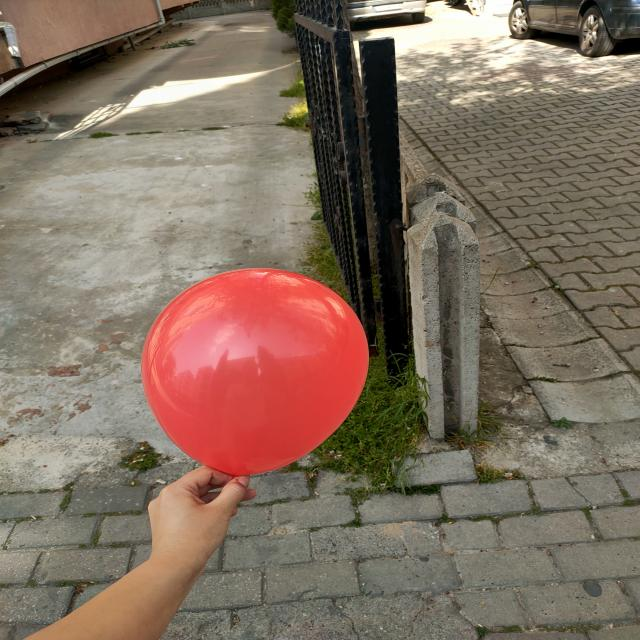red: (145, 269, 371, 478)
